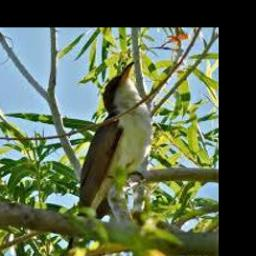Cuckoo: (55, 62, 152, 256)
